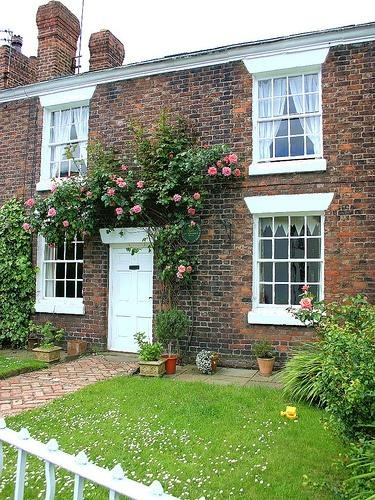pottedplant: (155, 306, 195, 378), (132, 330, 169, 381), (32, 322, 66, 364), (254, 339, 277, 376), (197, 351, 220, 375)
